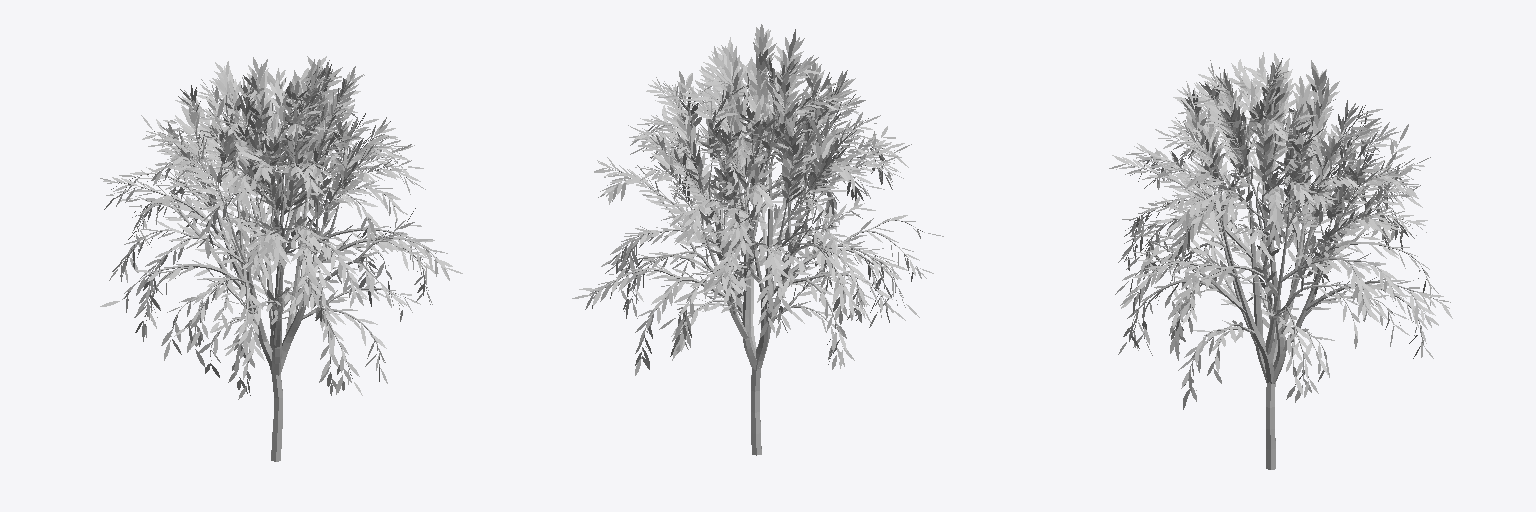
File: Tree 1.obj
The picture shows the model from 3 angles: view 1: azimuth 30°, elevation 25°; view 2: azimuth 150°, elevation 25°; view 3: azimuth 270°, elevation 25°; orthographic projection.
Visible parts, largest first — view 1: leaves, tree; view 2: leaves, tree; view 3: leaves, tree.
Part boxes in pixels (left/top/right/bottom): leaves: left=100, top=56, right=462, bottom=399; tree: left=119, top=81, right=433, bottom=461; leaves: left=572, top=24, right=943, bottom=375; tree: left=595, top=63, right=924, bottom=455; leaves: left=1109, top=52, right=1452, bottom=409; tree: left=1128, top=80, right=1436, bottom=469.
Size of the model in its own units: 5.94 by 7.86 by 6.03.